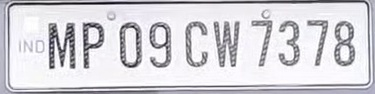character: (47, 20, 77, 71), (213, 19, 240, 67), (148, 21, 173, 69), (305, 17, 329, 66), (118, 21, 142, 69), (184, 19, 208, 67), (251, 17, 274, 67), (82, 20, 105, 69), (277, 19, 300, 67), (333, 19, 356, 67)
